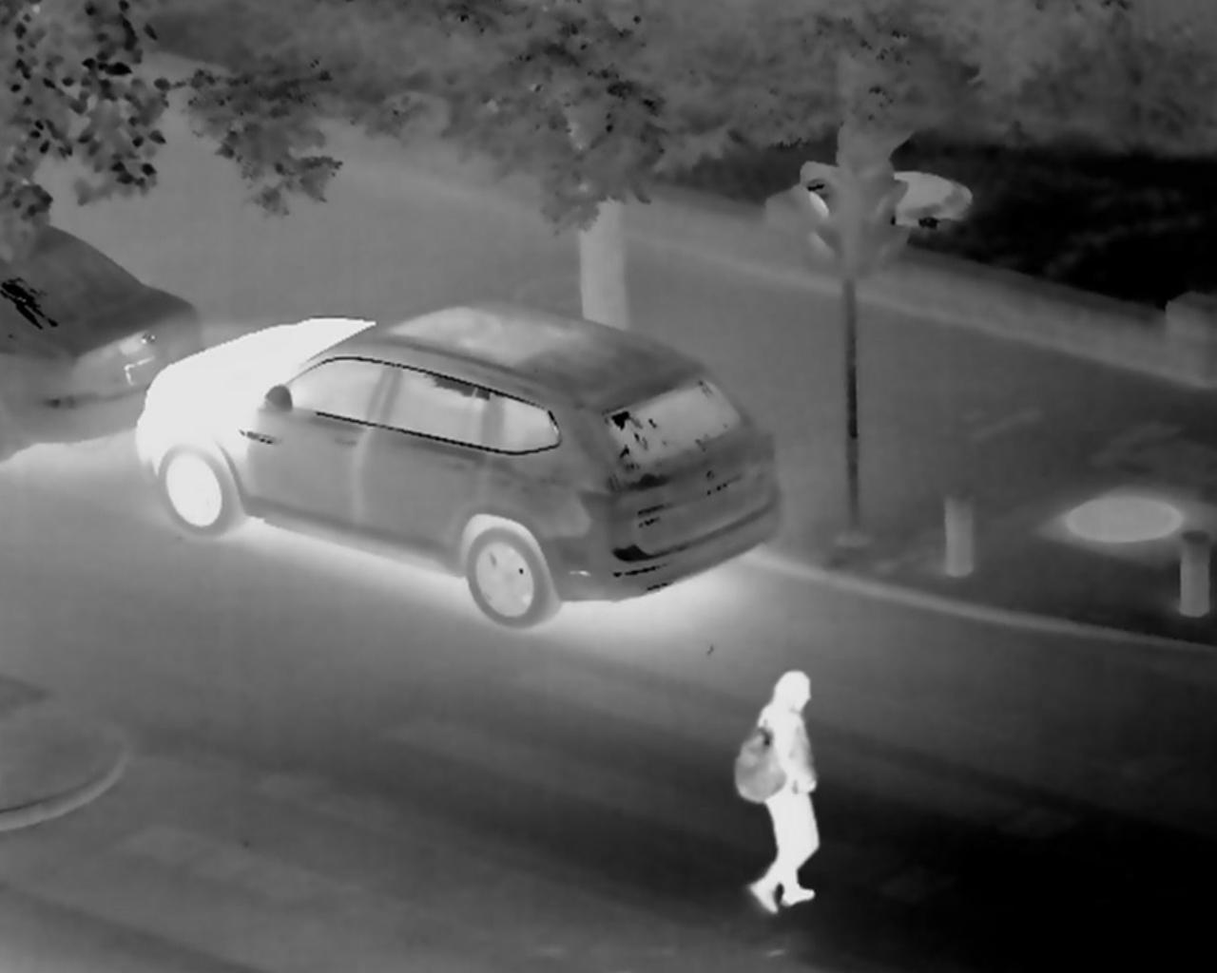person: (744, 658, 859, 973)
